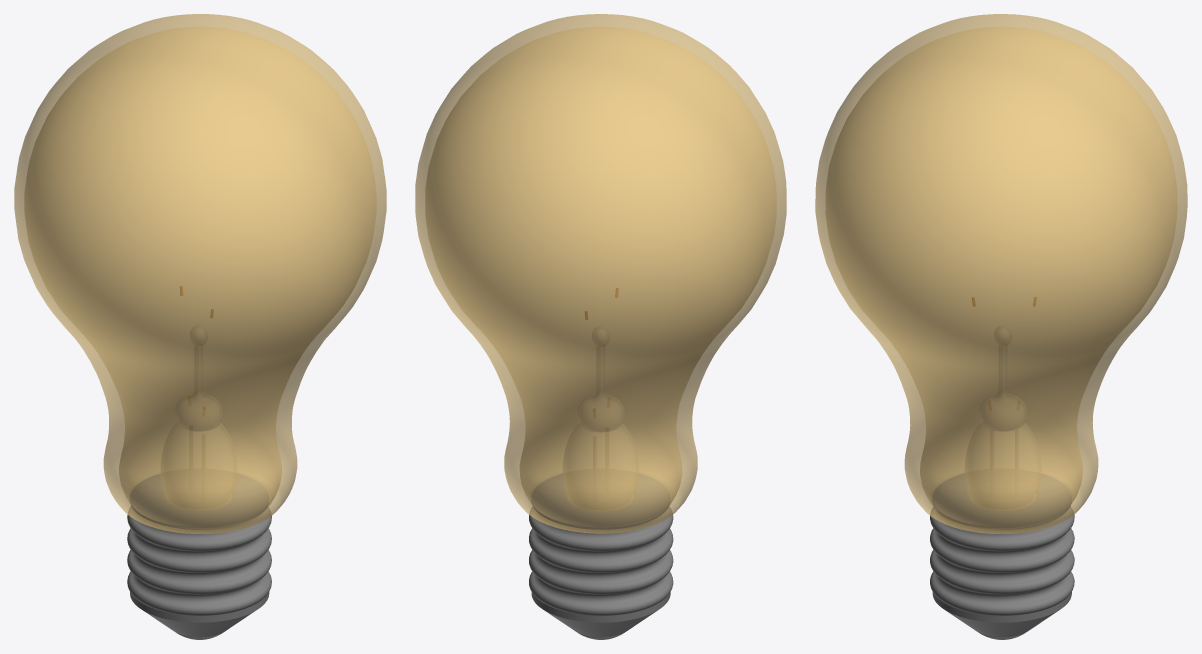
3 views of the same model, side by side, from view 1: azimuth 30°, elevation 25°; view 2: azimuth 150°, elevation 25°; view 3: azimuth 270°, elevation 25° (orthographic).
Parts seen in each view (by area): view 1: 그룹#7; view 2: 그룹#7; view 3: 그룹#7.
Boxes of the visible parts, x1,y1,x2,y2 form: 그룹#7: [14, 14, 386, 639]; 그룹#7: [415, 14, 786, 639]; 그룹#7: [815, 14, 1187, 639].
Size of the model in its own units: 1.76 by 3.16 by 1.76.
